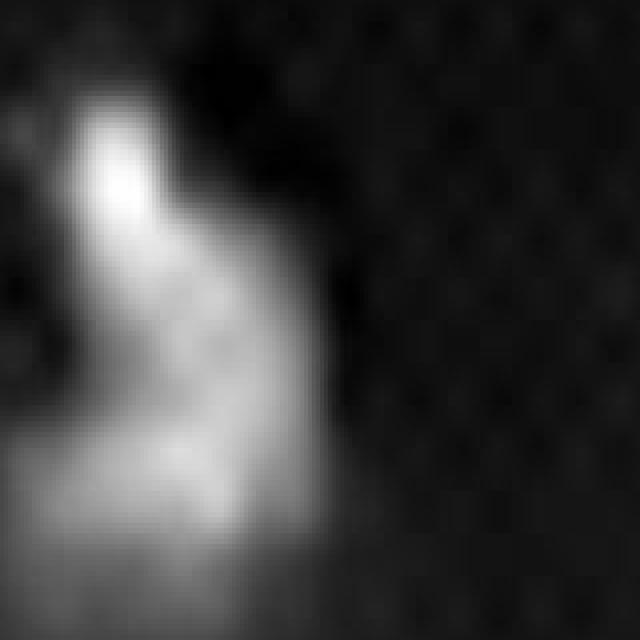person: (1, 49, 325, 636)
